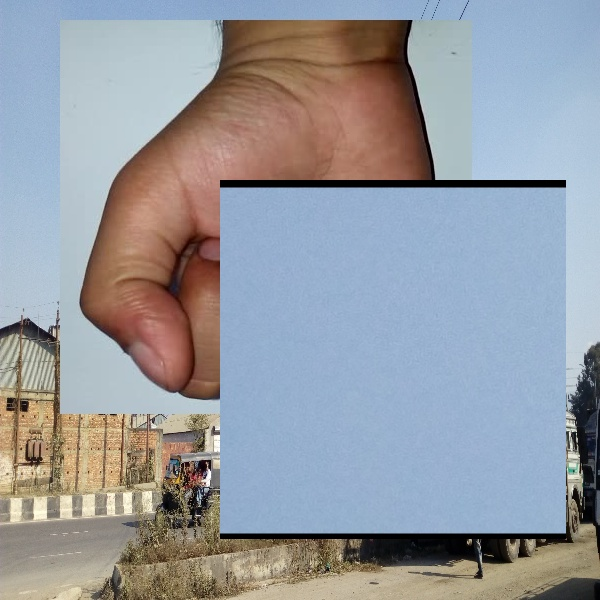A: (220, 180, 566, 539)
